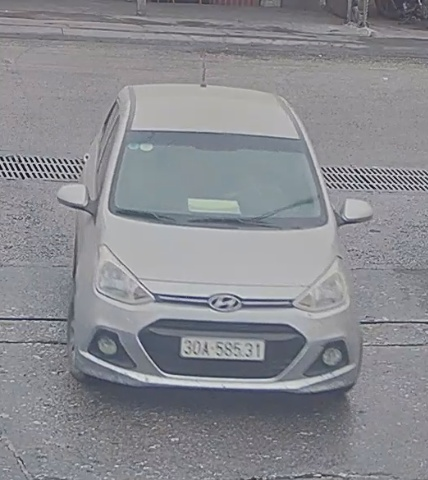vehicle plate: (178, 327, 276, 366)
